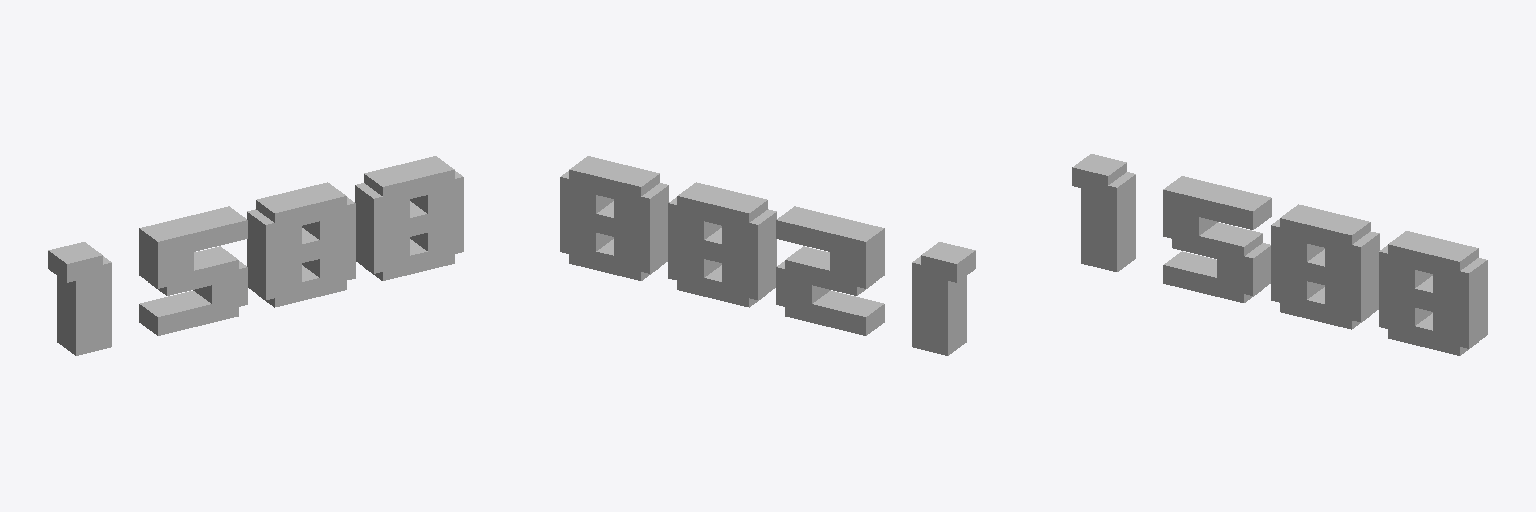
The picture shows the model from 3 angles: view 1: azimuth 30°, elevation 25°; view 2: azimuth 150°, elevation 25°; view 3: azimuth 330°, elevation 25°; orthographic projection.
Parts seen in each view (by area): view 1: テキスト.001, テキスト, テキスト.002, テキスト.003; view 2: テキスト.001, テキスト, テキスト.002, テキスト.003; view 3: テキスト, テキスト.001, テキスト.002, テキスト.003.
Boxes of the visible parts, x1,y1,x2,y2 form: テキスト.001: [247, 182, 355, 307]; テキスト: [355, 156, 463, 280]; テキスト.002: [139, 206, 247, 335]; テキスト.003: [48, 242, 111, 355]; テキスト.001: [668, 182, 776, 307]; テキスト: [560, 156, 668, 280]; テキスト.002: [776, 206, 884, 335]; テキスト.003: [912, 242, 975, 355]; テキスト: [1379, 231, 1487, 355]; テキスト.001: [1271, 204, 1379, 329]; テキスト.002: [1163, 176, 1271, 302]; テキスト.003: [1072, 154, 1135, 271].
Size of the model in its own units: 3.67 by 0.8333 by 0.3.